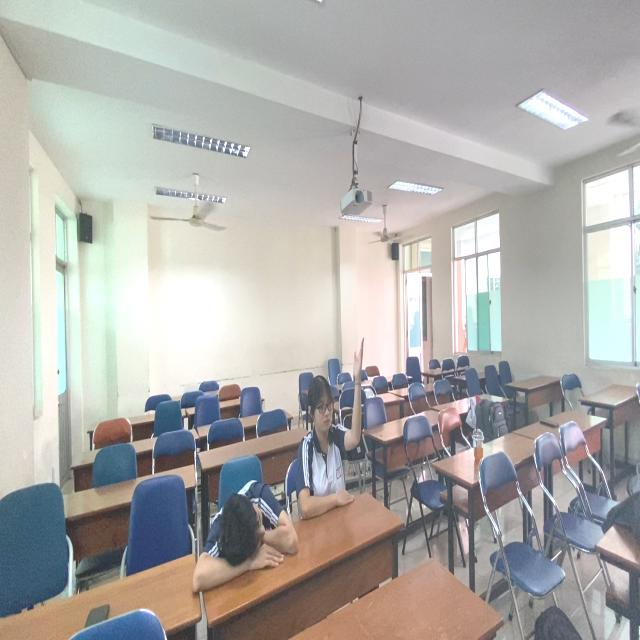raise_hand: (303, 335, 368, 542)
sleep: (183, 473, 312, 603)
